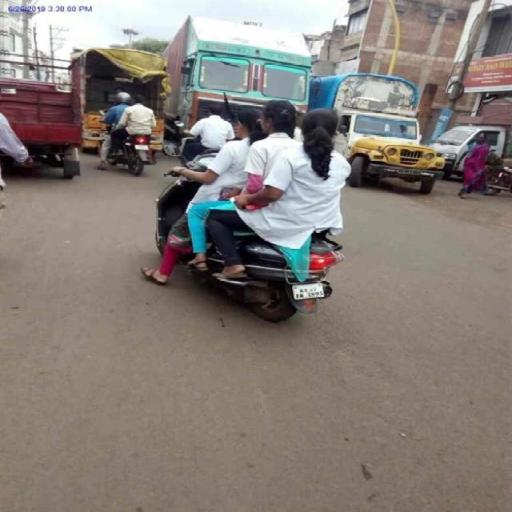tripple riding: (160, 97, 362, 236)
